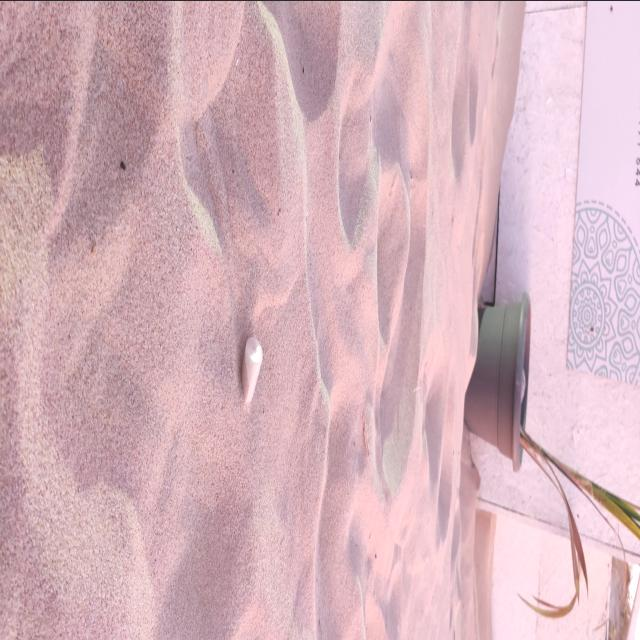Other plastic bottle: (240, 335, 262, 401)
